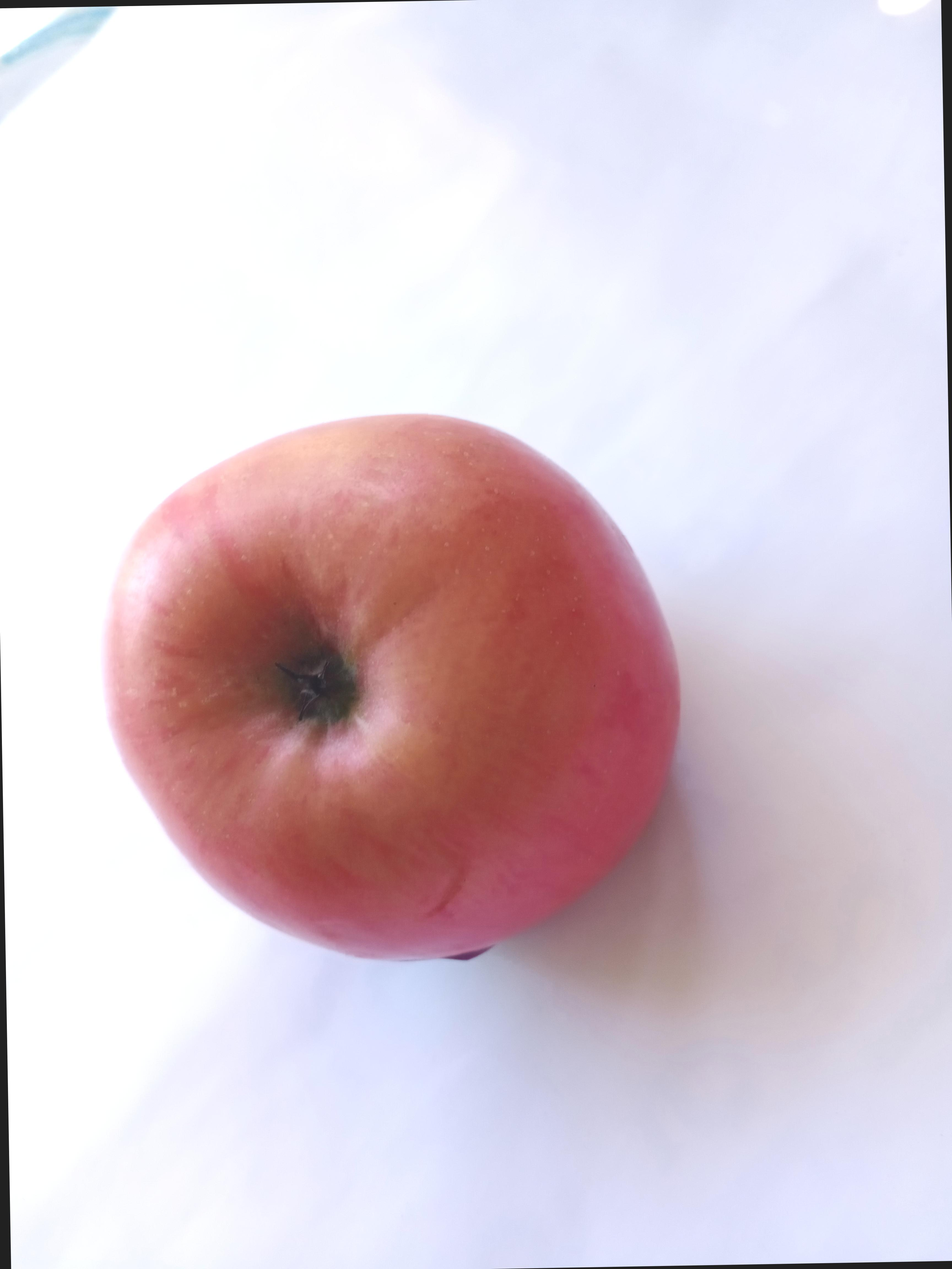Apple Ripe: (60, 405, 730, 986)
